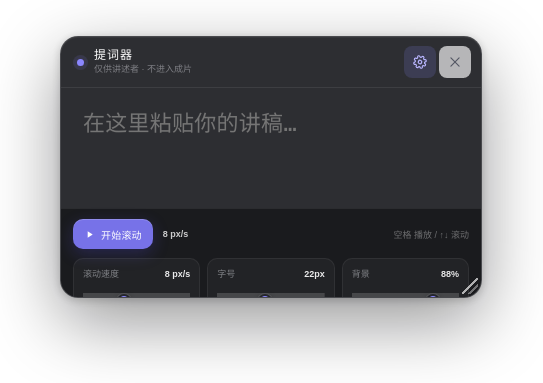
Teleprompter › collapses settings while keeping playback controls available
Click the button named "收起设置" at (420, 62), box [404,46,436,78]
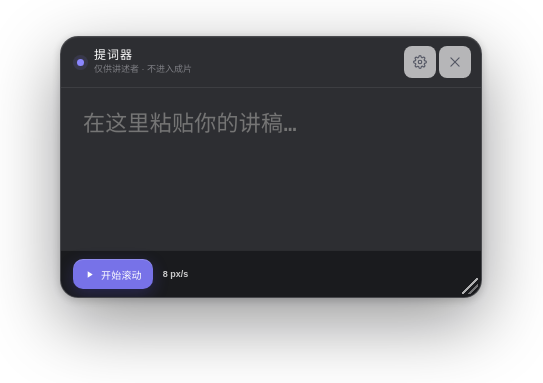
Expected: the field labelled "滚动速度" is gone
Expected: the slider labelled "字体大小" is gone
Expected: the slider labelled "背景透明度" is gone
Click the button named "展开设置" at (420, 62), box [404,46,436,78]
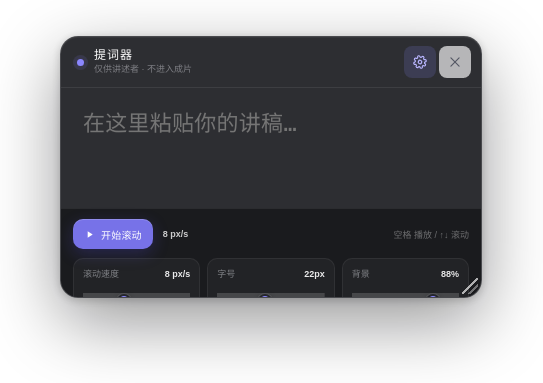
Expected: the slider named "滚动速度" is shown, [83,288,190,298]
Expected: the slider named "字体大小" is shown, [217,288,325,298]
Expected: the slider named "背景透明度" is shown, [352,288,459,298]
